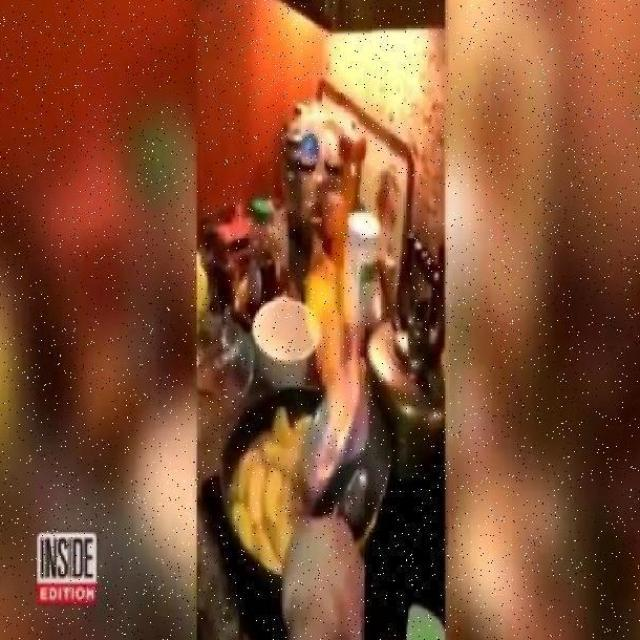smoke: (306, 246, 362, 420)
